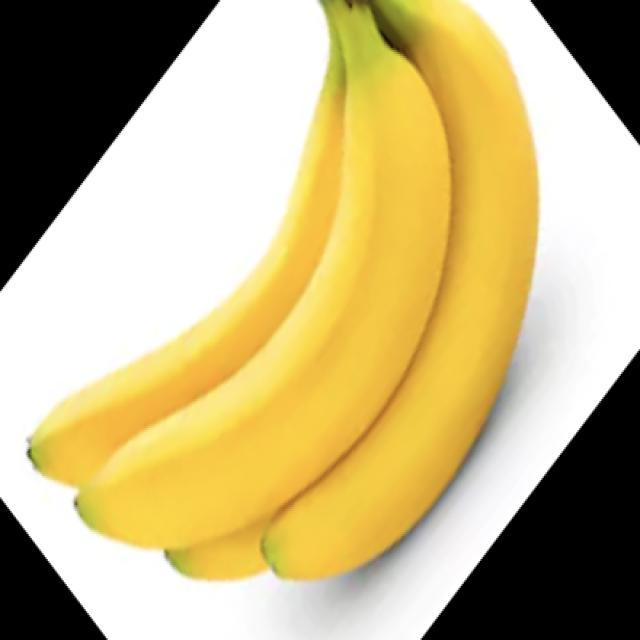Banana: (25, 0, 540, 584)
